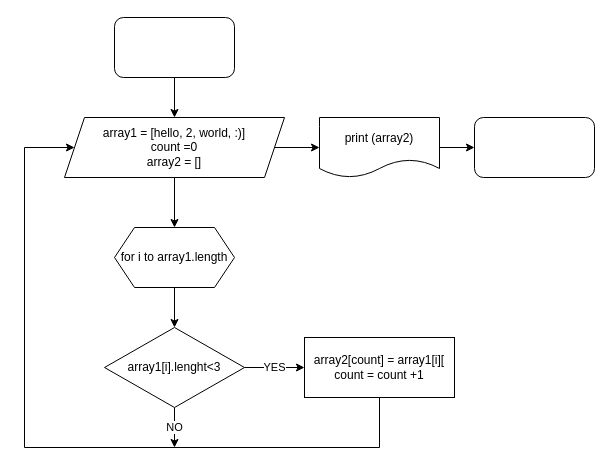
The diagram is 612 pixels wide and 473 high, and some of its shapes have lost their labels. The shapes that lost their labels are listed below. From the top down, each one's centre as x and y in pixels, then its label:
At (174,47): "Start".
At (534,147): "End".
